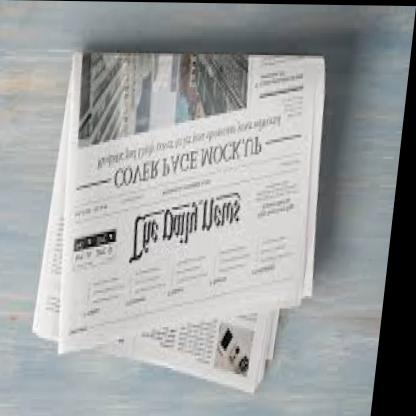Paper: (9, 28, 364, 400)
